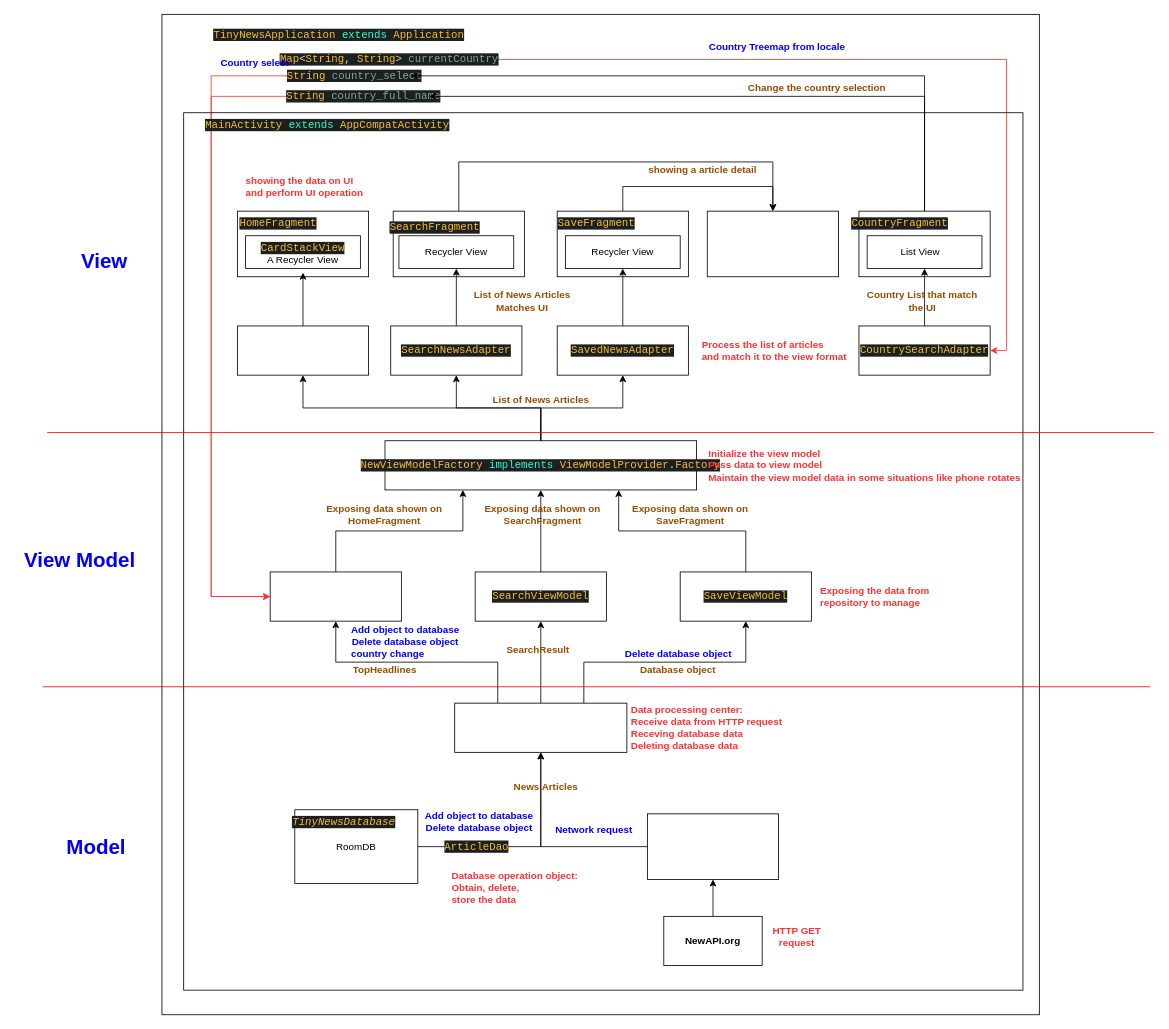
The diagram is 1169 pixels wide and 1029 high, and some of its shapes have lost their labels. The shapes that lost their labels are listed below. From the top down, each one's centre as x and y in pixels, then its label:
the point at 772,243: DetailsFragment
the point at 303,350: CardSwipeAdapter
the point at 335,596: HomeViewModel
the point at 540,727: NewRepository
the point at 713,846: RetrofitClient
